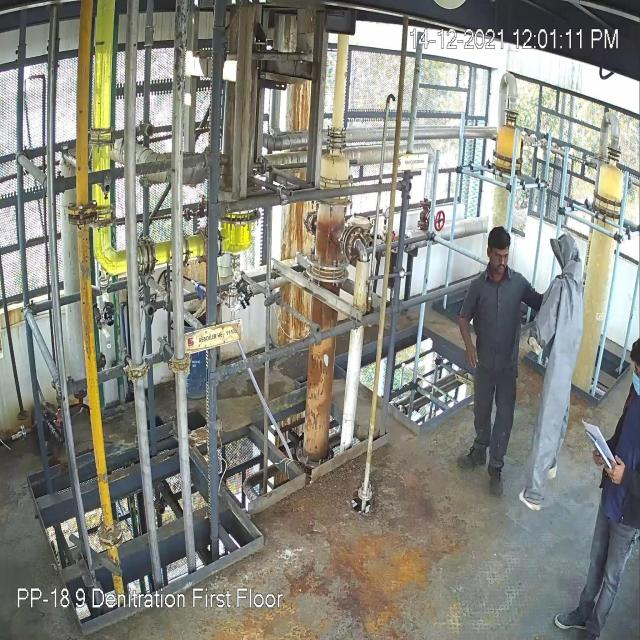No_Gloves: (457, 319, 482, 373)
